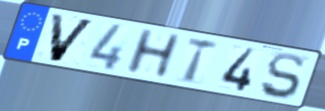4: (217, 45, 257, 94), (87, 23, 125, 73)
H: (122, 27, 185, 79)
S: (258, 52, 306, 101)
T: (182, 36, 221, 86)
V: (48, 12, 98, 64)
